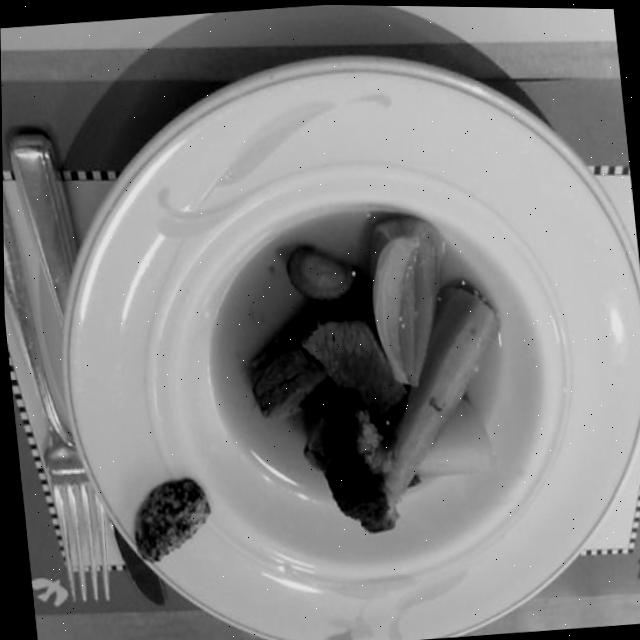汤锅炖物: (14, 10, 640, 640)
